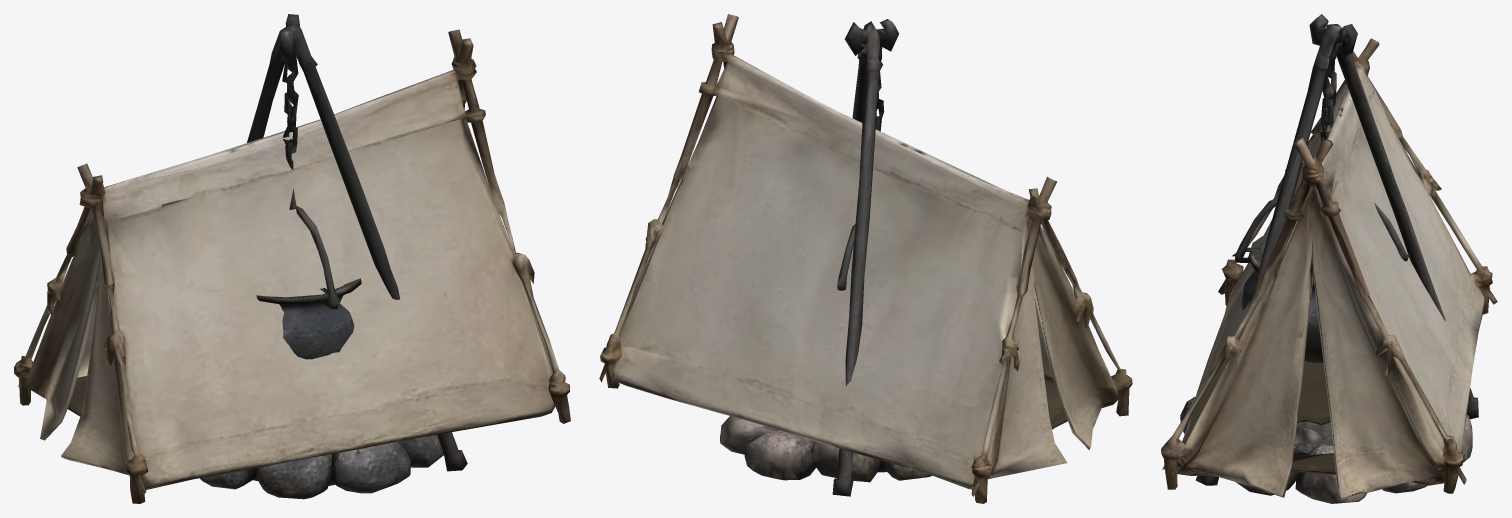
The model's file is camp.glb.
3 views of the same model, side by side, from view 1: azimuth 30°, elevation 25°; view 2: azimuth 150°, elevation 25°; view 3: azimuth 270°, elevation 25° (orthographic). The views are drawn at different scales.
Parts seen in each view (by area): view 1: tent, cooking_pot; view 2: tent, cooking_pot; view 3: tent, cooking_pot.
Boxes of the visible parts, x1,y1,x2,y2 form: tent: [14, 29, 570, 503]; cooking_pot: [200, 14, 467, 499]; tent: [599, 14, 1132, 503]; cooking_pot: [720, 19, 932, 496]; tent: [1161, 38, 1497, 499]; cooking_pot: [1180, 14, 1478, 503].
Size of the model in its own units: 0.4662 by 0.4184 by 0.3001.
Materials: 1 (1 with a texture image).
